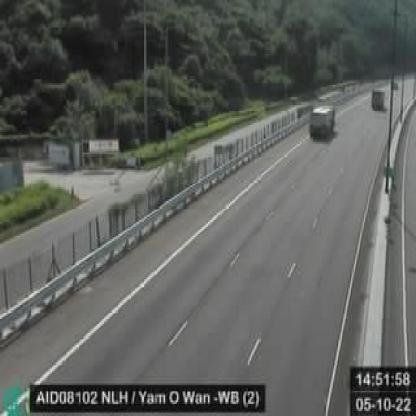Truck: (308, 104, 334, 139)
